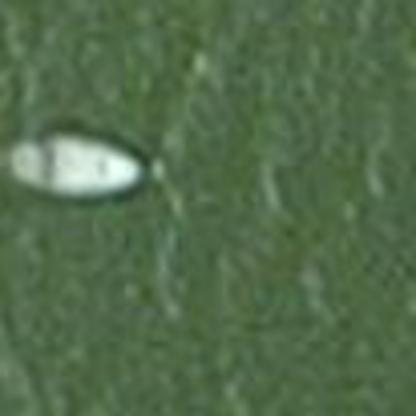ship: (2, 124, 157, 209)
